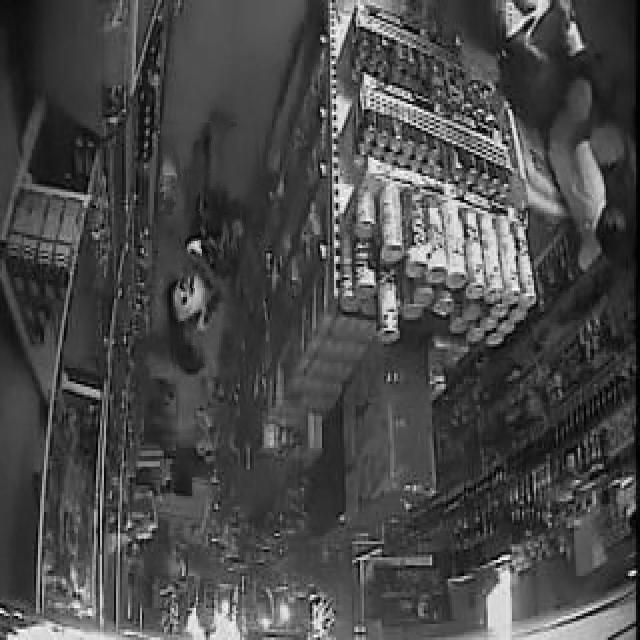Shoplifting: (165, 121, 265, 378)
